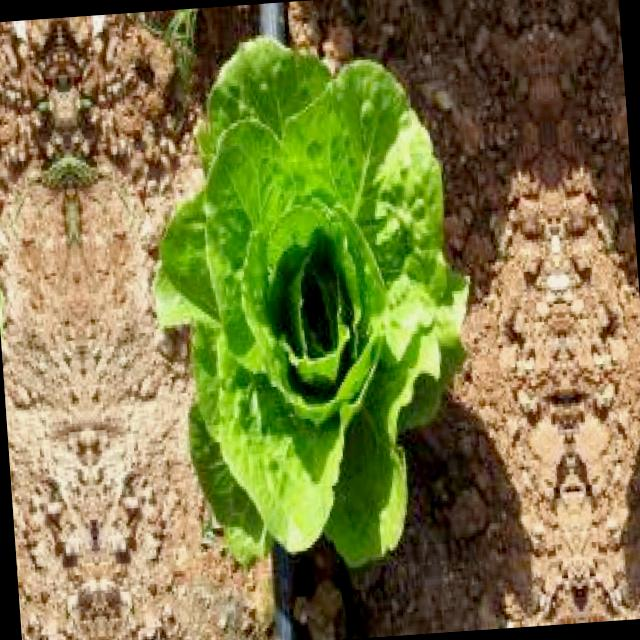healthy: (137, 21, 486, 572), (0, 53, 21, 581)
